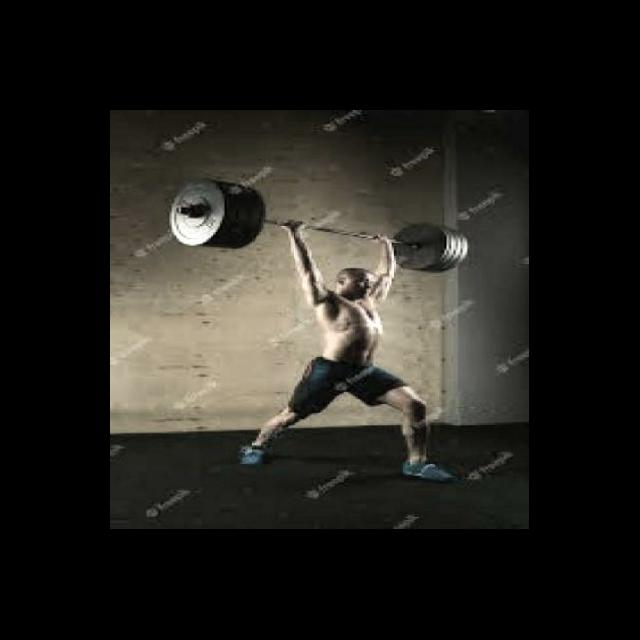barbell: (167, 177, 226, 254)
